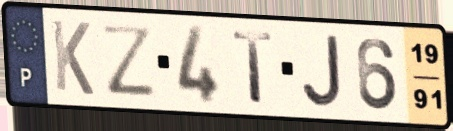4: (174, 22, 222, 107)
6: (354, 36, 401, 113)
J: (299, 32, 345, 110)
K: (48, 16, 96, 99)
T: (230, 28, 277, 106)
Z: (98, 22, 158, 99)
